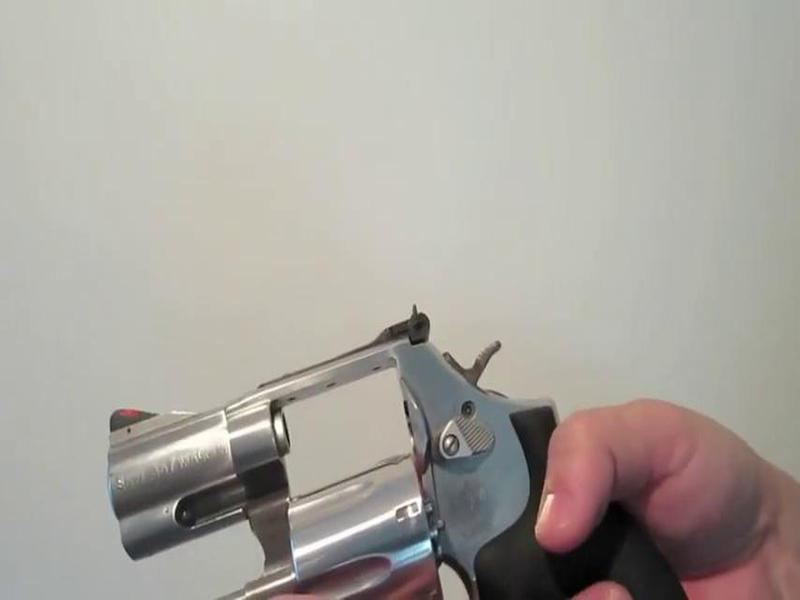Revolver: (96, 315, 727, 600)
